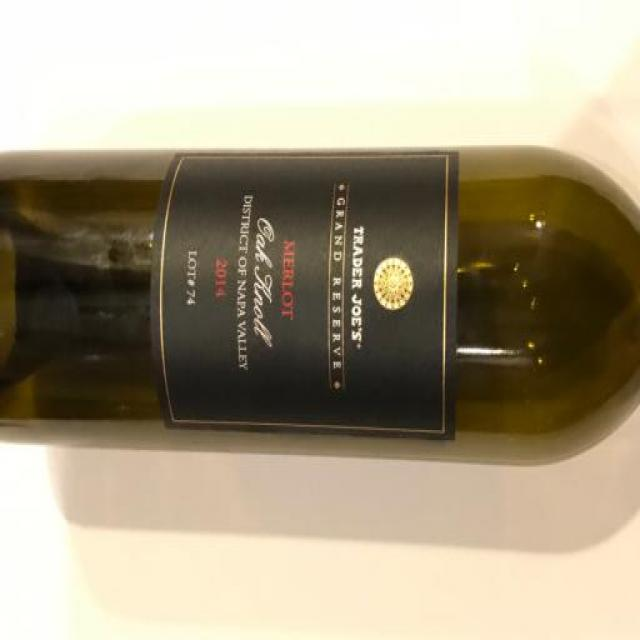glass: (1, 130, 640, 470)
